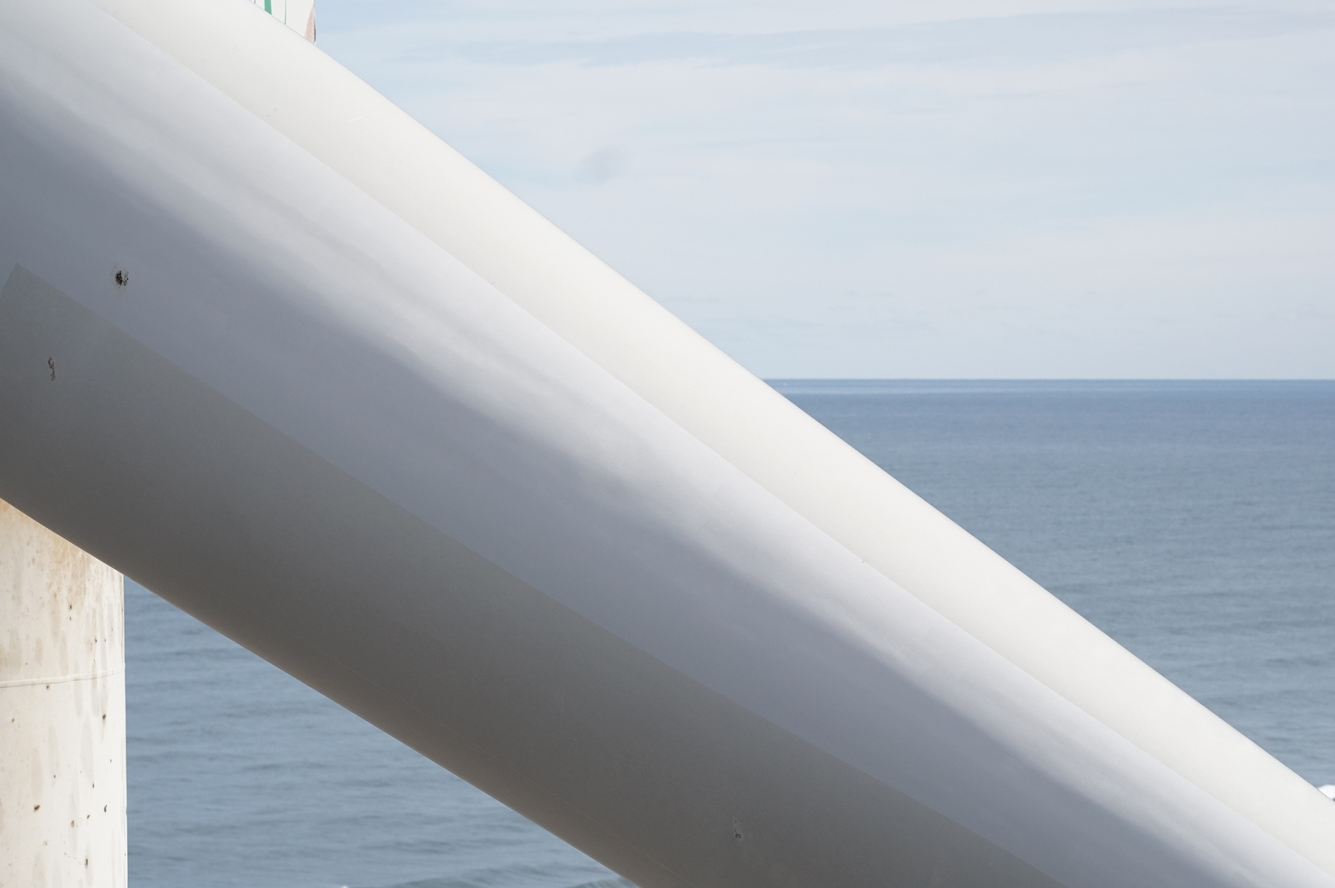Dirt: (114, 264, 138, 289)
